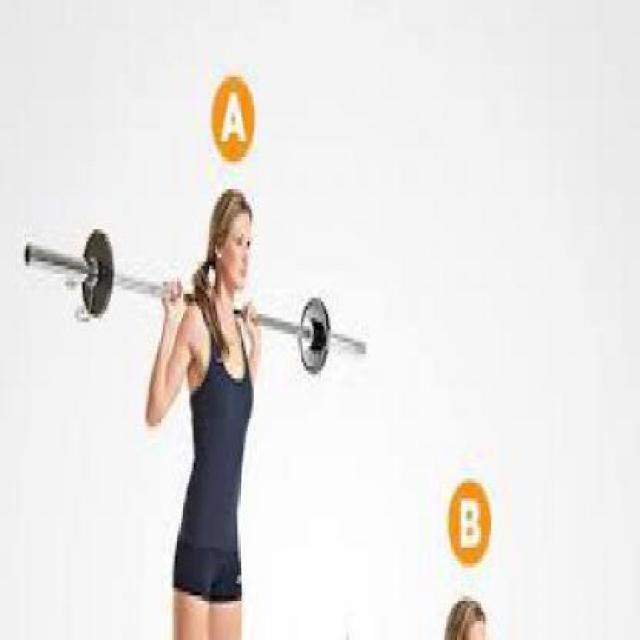Barbell: (18, 238, 38, 273)
